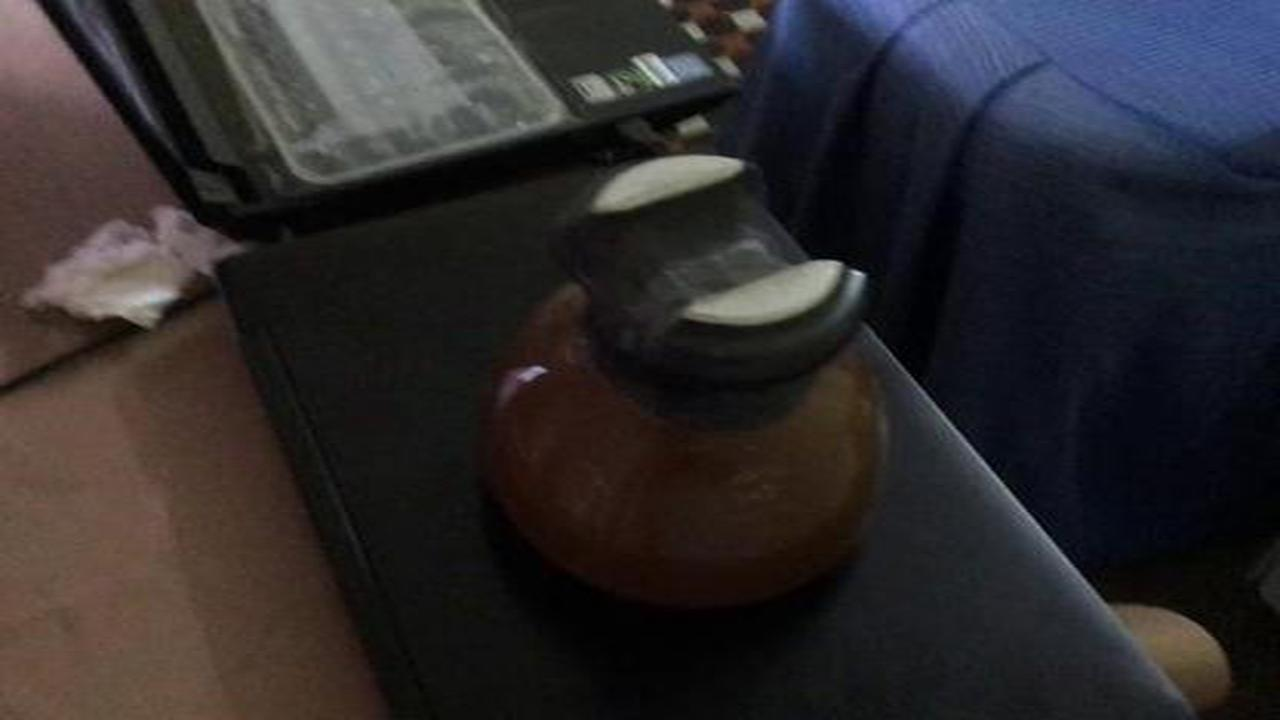insulator_pin: (455, 145, 914, 631)
